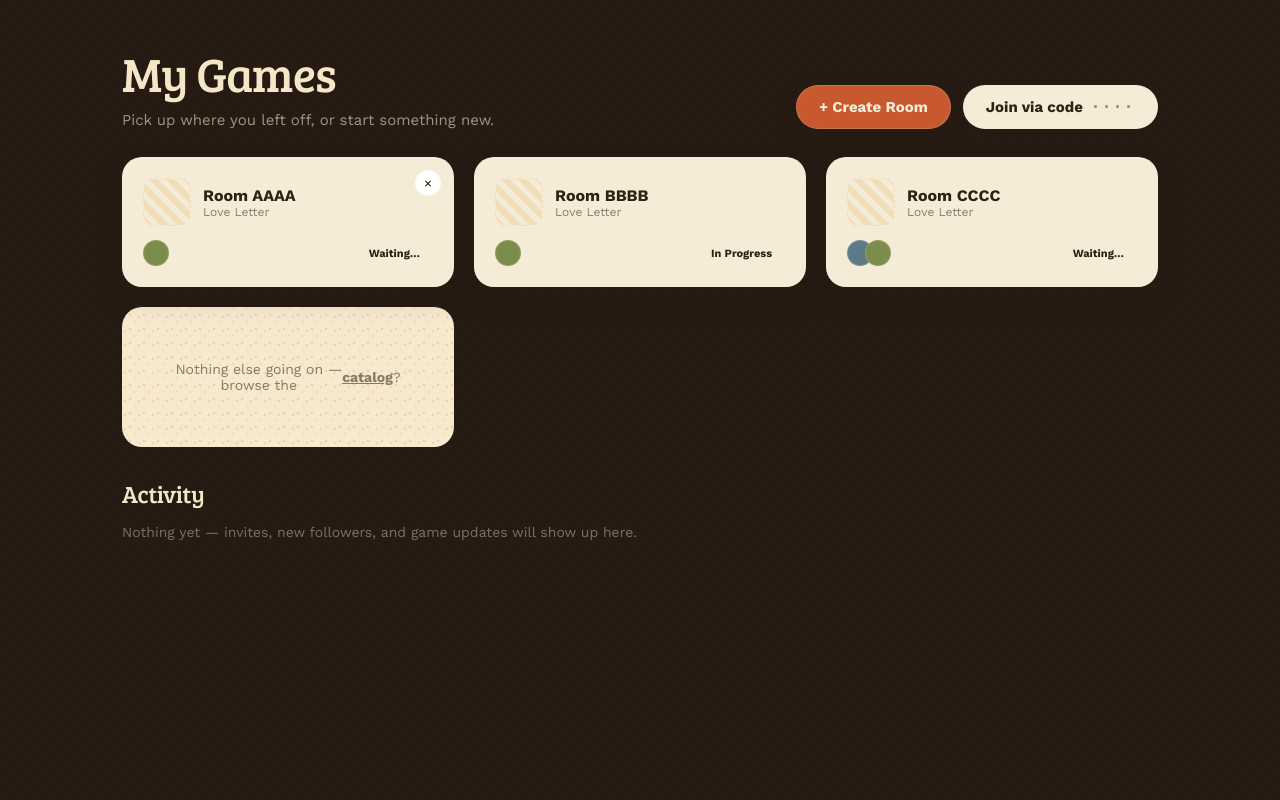
it: DashboardContainer › clicking delete opens a confirmation modal without navigating
The width and height of the screenshot is (1280, 800).
Click the button named "Delete room" at (428, 183), box [415,170,441,196]
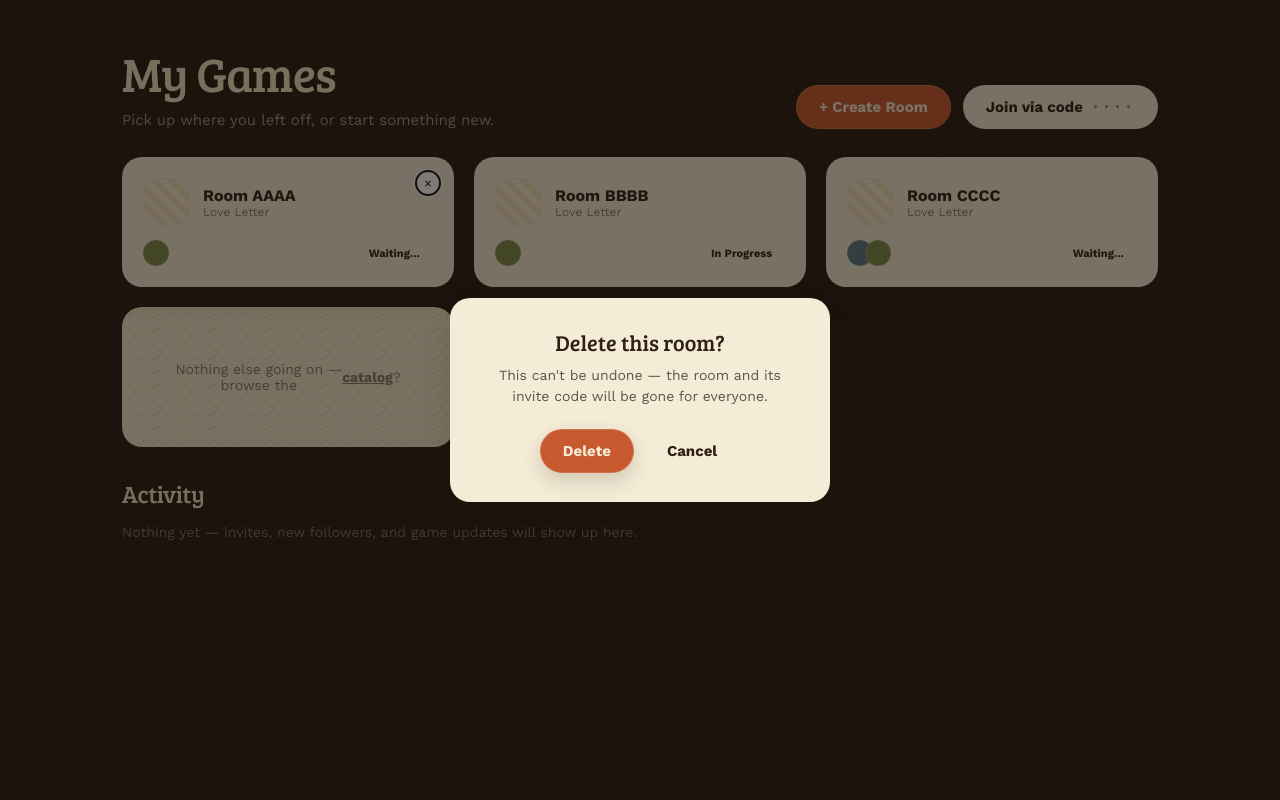
Now the text "Delete this room?" is shown, box [555,327,725,357]
